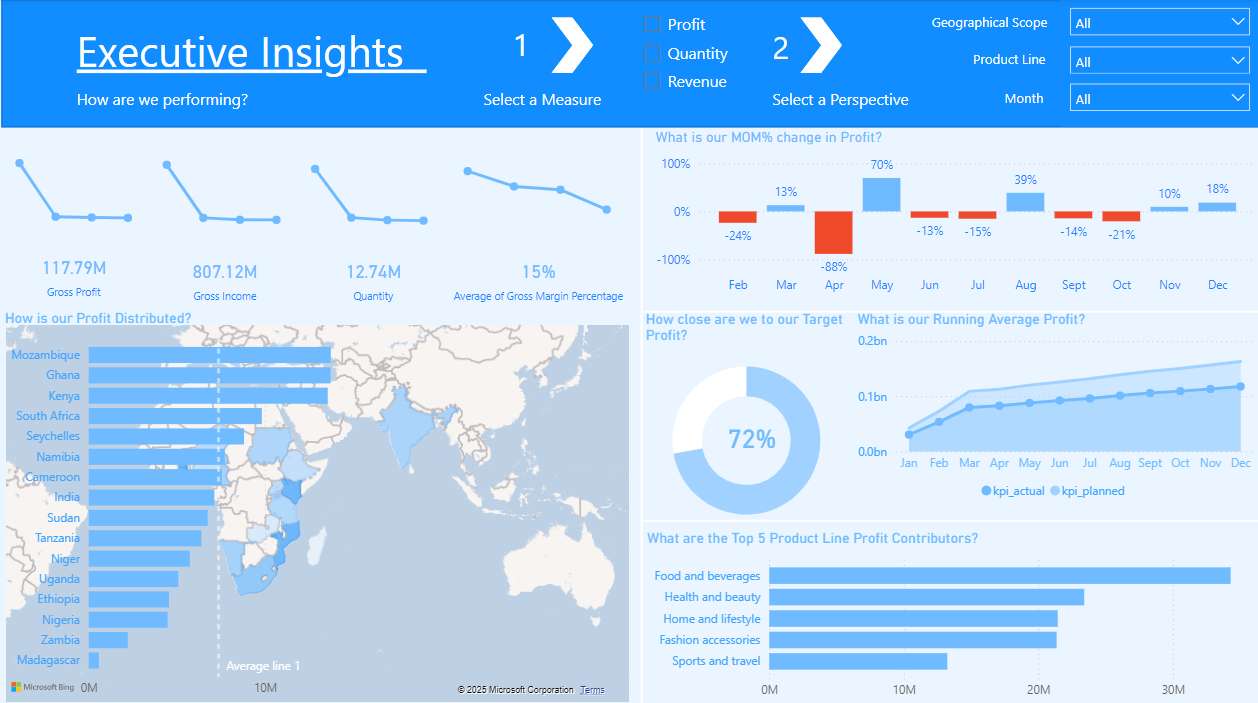

This screenshot's page, from the dashboard's own definition file:
{"tool":"powerbi","page":{"name":"Page 1","canvas":[1280,720],"ordinal":0},"visuals":[{"type":"shape","box":[1.6,1.6,1278.2,130],"z":0},{"type":"textbox","box":[72,19,390,70],"z":1000},{"type":"textbox","box":[514.7,18.9,33.1,70.8],"z":2000},{"type":"shape","box":[560.4,18.9,42.5,56.7],"z":3000},{"type":"textbox","box":[72.4,86.6,234.5,33.1],"z":4000},{"type":"textbox","box":[486.4,86.6,234.5,33.1],"z":5000},{"type":"slicer","fields":{"Values":["Table.Measure"]},"box":[640.7,6.3,116.5,99.2],"z":6000},{"type":"textbox","box":[779.2,22,33.1,70.8],"z":7000},{"type":"shape","box":[812.2,18.9,42.5,56.7],"z":8000},{"type":"textbox","box":[779.2,86.6,171.6,33.1],"z":9000},{"type":"slicer","fields":{"Values":["supermarket_sales - Sheet1.Country"]},"box":[1076.7,0,203.1,48.8],"z":10000},{"type":"textbox","box":[941.3,9.8,141.1,39.1],"z":11000},{"type":"slicer","fields":{"Values":["supermarket_sales - Sheet1.Product line"]},"box":[1076.7,39.4,203.1,53.5],"z":12000},{"type":"textbox","box":[983.2,47.5,99.2,39.1],"z":13000},{"type":"textbox","box":[1015.3,86.6,64.2,39.1],"z":14000},{"type":"slicer","fields":{"Values":["Date.MonthNameLong"]},"box":[1076.7,77.1,203.1,53.5],"z":15000},{"type":"lineChart","fields":{"Category":["Date.Quarter"],"Y":["Sum(supermarket_sales - Sheet1.Gross Profit)"]},"box":[0,149.5,149.5,89.7],"z":16000},{"type":"card","fields":{"Values":["Sum(supermarket_sales - Sheet1.Gross Profit)"]},"box":[0,236.1,149.5,91.3],"z":17000},{"type":"lineChart","fields":{"Category":["Date.Quarter"],"Y":["Sum(supermarket_sales - Sheet1.Gross Income)"]},"box":[149.5,149.5,151.1,91.3],"z":18000},{"type":"lineChart","fields":{"Category":["Date.Quarter"],"Y":["Sum(supermarket_sales - Sheet1.Quantity)"]},"box":[300.6,149.5,149.5,91.3],"z":19000},{"type":"lineChart","fields":{"Category":["Date.Quarter"],"Y":["Avg(supermarket_sales - Sheet1.Gross Margin Percentage)"]},"box":[451.8,149.5,188.9,91.3],"z":20000},{"type":"card","fields":{"Values":["Sum(supermarket_sales - Sheet1.Gross Income)"]},"box":[149.5,240.8,157.4,89.7],"z":21000},{"type":"card","fields":{"Values":["Sum(supermarket_sales - Sheet1.Quantity)"]},"box":[306.9,240.8,143.2,89.7],"z":22000},{"type":"card","fields":{"Values":["Avg(supermarket_sales - Sheet1.Gross Margin Percentage)"]},"box":[450.2,240.8,193.6,89.7],"z":23000},{"type":"filledMap","fields":{"Category":["supermarket_sales - Sheet1.Country"]},"box":[1.4,327.1,642.9,392.9],"z":24000},{"type":"clusteredBarChart","fields":{"Category":["supermarket_sales - Sheet1.Country"],"Y":["measure_table.kpi"]},"box":[0,317.1,375.7,401.4],"z":25000},{"type":"shape","box":[643.8,132.2,15.7,587.1],"z":26000},{"type":"clusteredColumnChart","fields":{"Y":["measure_table.percentage_profit_change"],"Category":["Date.MonthNameShort"]},"box":[660,132.9,620,177.1],"z":27000},{"type":"shape","box":[651.4,310,627.1,17.1],"z":28000},{"type":"donutChart","fields":{"Y":["measure_table.profit_performance_percentage","measure_table.profit_target_percentage"]},"box":[651.4,318.6,214.3,230],"z":29000},{"type":"card","fields":{"Values":["measure_table.profit_performance_percentage"]},"box":[688.6,401.4,150,91.4],"z":30000},{"type":"areaChart","fields":{"Category":["Date.MonthNameShort"],"Y":["measure_table.kpi_actual","measure_table.kpi_planned"]},"box":[865.7,318.6,411.4,200],"z":31000},{"type":"shape","box":[652.9,522.9,627.1,17.1],"z":32000},{"type":"clusteredBarChart","fields":{"Category":["supermarket_sales - Sheet1.Product line"],"Y":["measure_table.kpi"]},"box":[652.9,540,624.3,180],"z":33000}]}

Visuals, with their boxes in screenshot pixels (x1, y1, x2, y2), scaled from the page's 1280x720 canvas onto the 1258x703 screenshot:
shape: {"left": 2, "top": 2, "right": 1257, "bottom": 128}
textbox: {"left": 71, "top": 19, "right": 454, "bottom": 87}
textbox: {"left": 506, "top": 18, "right": 538, "bottom": 88}
shape: {"left": 551, "top": 18, "right": 593, "bottom": 74}
textbox: {"left": 71, "top": 85, "right": 302, "bottom": 117}
textbox: {"left": 478, "top": 85, "right": 709, "bottom": 117}
slicer - Table.Measure: {"left": 630, "top": 6, "right": 744, "bottom": 103}
textbox: {"left": 766, "top": 21, "right": 798, "bottom": 91}
shape: {"left": 798, "top": 18, "right": 840, "bottom": 74}
textbox: {"left": 766, "top": 85, "right": 934, "bottom": 117}
slicer - supermarket_sales - Sheet1.Country: {"left": 1058, "top": 0, "right": 1257, "bottom": 48}
textbox: {"left": 925, "top": 10, "right": 1064, "bottom": 48}
slicer - supermarket_sales - Sheet1.Product line: {"left": 1058, "top": 38, "right": 1257, "bottom": 91}
textbox: {"left": 966, "top": 46, "right": 1064, "bottom": 85}
textbox: {"left": 998, "top": 85, "right": 1061, "bottom": 123}
slicer - Date.MonthNameLong: {"left": 1058, "top": 75, "right": 1257, "bottom": 128}
lineChart - Date.Quarter x Sum(supermarket_sales - Sheet1.Gross Profit): {"left": 0, "top": 146, "right": 147, "bottom": 234}
card - Sum(supermarket_sales - Sheet1.Gross Profit): {"left": 0, "top": 231, "right": 147, "bottom": 320}
lineChart - Date.Quarter x Sum(supermarket_sales - Sheet1.Gross Income): {"left": 147, "top": 146, "right": 295, "bottom": 235}
lineChart - Date.Quarter x Sum(supermarket_sales - Sheet1.Quantity): {"left": 295, "top": 146, "right": 442, "bottom": 235}
lineChart - Date.Quarter x Avg(supermarket_sales - Sheet1.Gross Margin Percentage): {"left": 444, "top": 146, "right": 630, "bottom": 235}
card - Sum(supermarket_sales - Sheet1.Gross Income): {"left": 147, "top": 235, "right": 302, "bottom": 323}
card - Sum(supermarket_sales - Sheet1.Quantity): {"left": 302, "top": 235, "right": 442, "bottom": 323}
card - Avg(supermarket_sales - Sheet1.Gross Margin Percentage): {"left": 442, "top": 235, "right": 633, "bottom": 323}
filledMap - supermarket_sales - Sheet1.Country: {"left": 1, "top": 319, "right": 633, "bottom": 702}
clusteredBarChart - supermarket_sales - Sheet1.Country x measure_table.kpi: {"left": 0, "top": 310, "right": 369, "bottom": 702}
shape: {"left": 633, "top": 129, "right": 648, "bottom": 702}
clusteredColumnChart - measure_table.percentage_profit_change x Date.MonthNameShort: {"left": 649, "top": 130, "right": 1257, "bottom": 303}
shape: {"left": 640, "top": 303, "right": 1257, "bottom": 319}
donutChart - measure_table.profit_performance_percentage x measure_table.profit_target_percentage: {"left": 640, "top": 311, "right": 851, "bottom": 536}
card - measure_table.profit_performance_percentage: {"left": 677, "top": 392, "right": 824, "bottom": 481}
areaChart - Date.MonthNameShort x measure_table.kpi_actual: {"left": 851, "top": 311, "right": 1255, "bottom": 506}
shape: {"left": 642, "top": 511, "right": 1257, "bottom": 527}
clusteredBarChart - supermarket_sales - Sheet1.Product line x measure_table.kpi: {"left": 642, "top": 527, "right": 1255, "bottom": 702}
